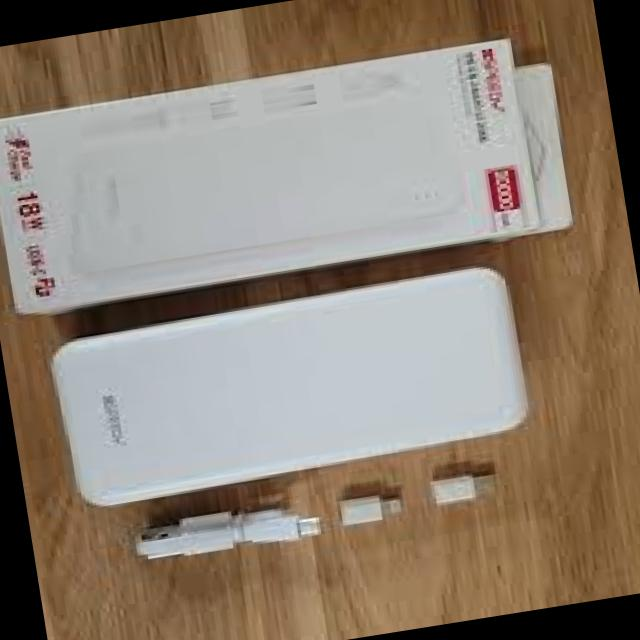power_bank: (49, 262, 536, 516), (54, 98, 464, 290)
